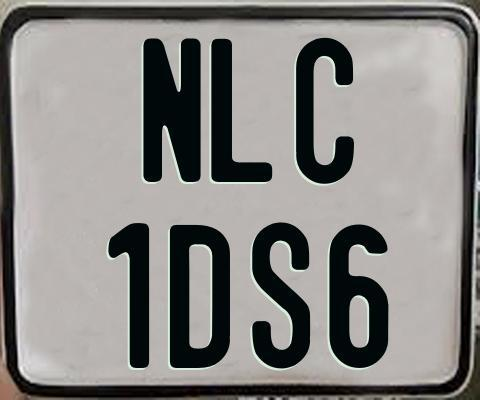1: (108, 222, 154, 368)
6: (327, 223, 387, 370)
C: (295, 36, 353, 187)
D: (168, 225, 230, 372)
L: (209, 37, 272, 185)
N: (143, 37, 206, 181)
S: (251, 220, 311, 371)
